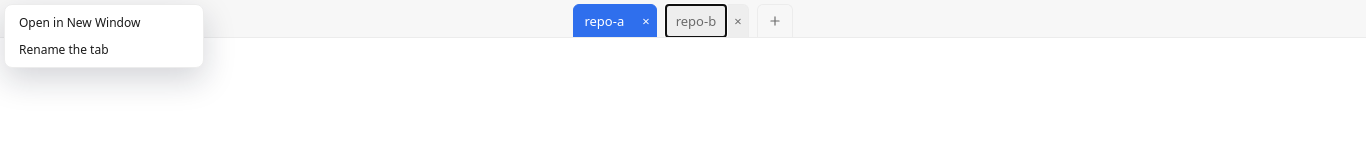
Test: RepoTabs › offers to rename a tab from the context menu
Click the menu item "Rename the tab".
click(104, 50)  # box [9,36,199,63]
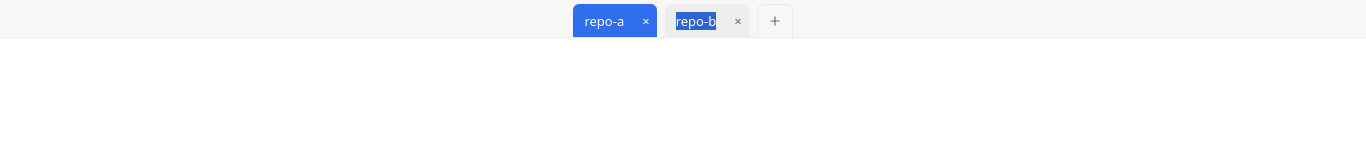
Expected: the field named "Rename repo-b" is shown, [666,5,726,37]
